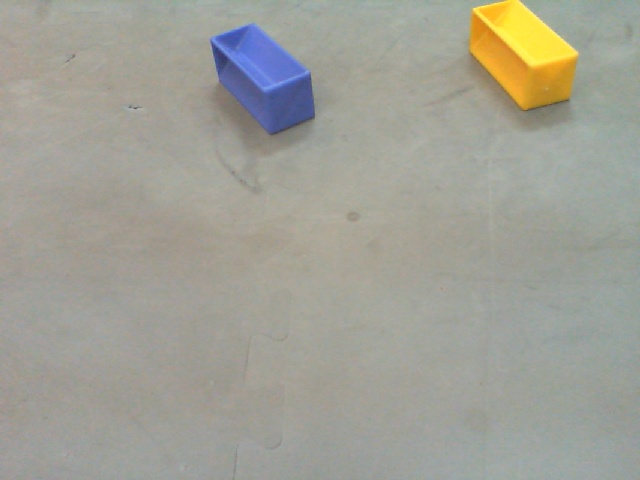BlueSample: (209, 23, 317, 138)
YellowSample: (467, 1, 579, 113)
